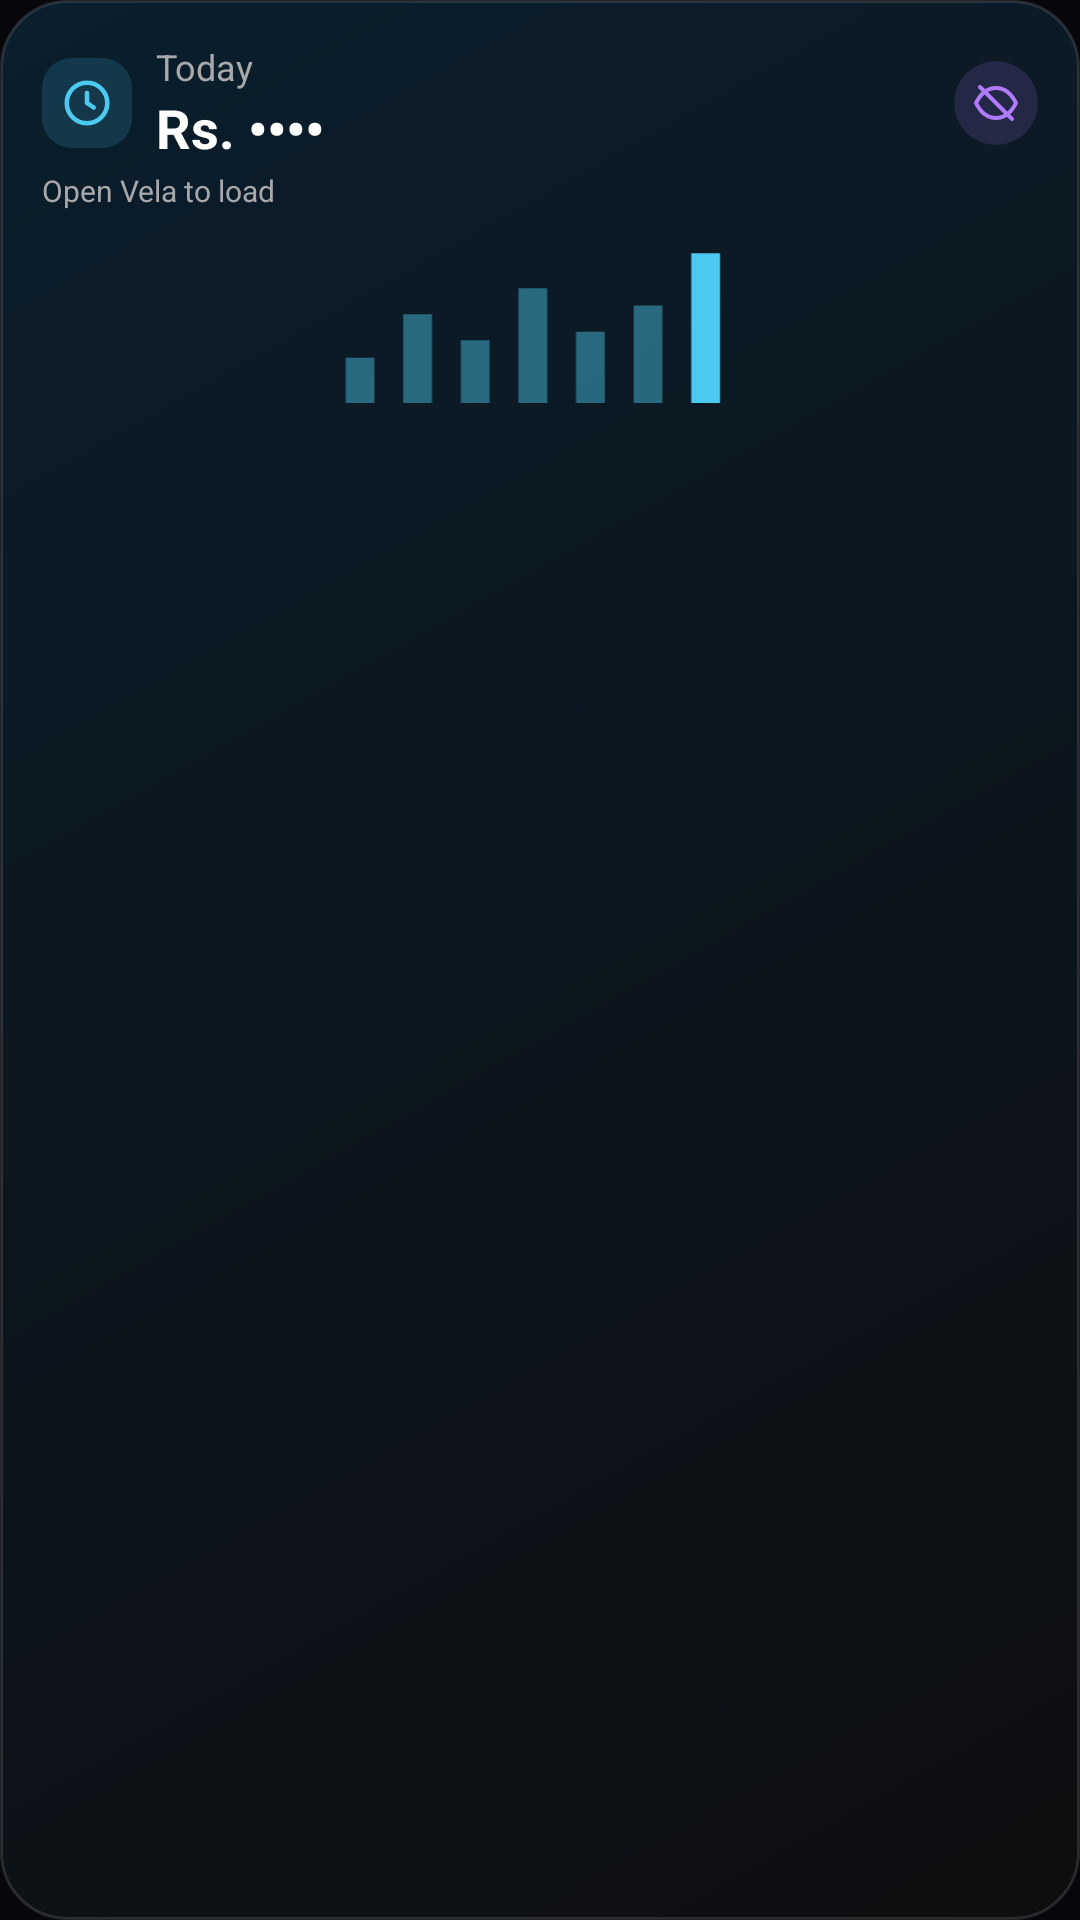

Icon click points for this 1080*1920 phone screenshot, format (x=x, y=y):
recent: (x=87, y=103)
Show amounts: (x=996, y=103)
